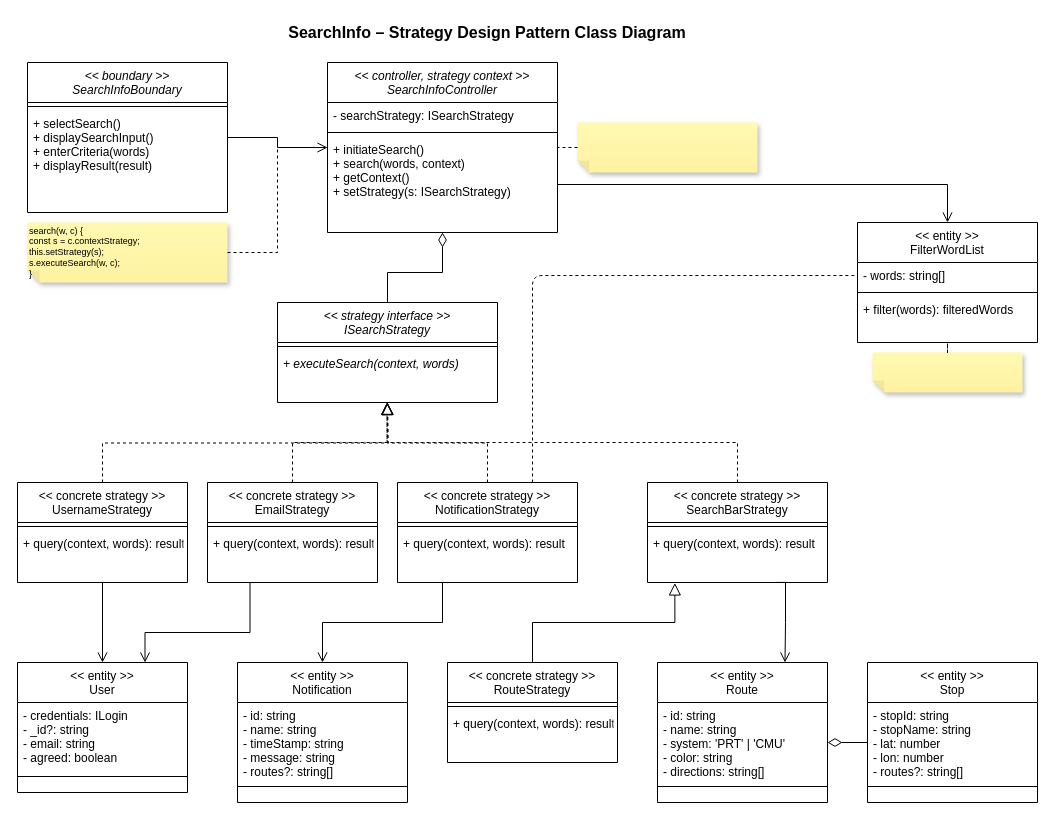
Image size: 1055x820. Some labels were removed from this diagram. Each missing label, with the centre of its shape:
"setStrategy(s: ISearchStrategy) { this.searchStrategy = s; }" belongs at [668,148].
"Stopword list only applied to certain contexts" belongs at [948,373].
